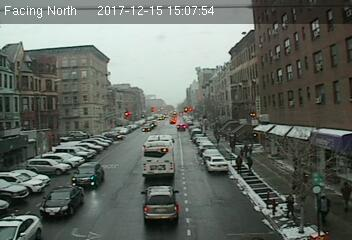bus: (142, 135, 176, 179)
car: (37, 186, 84, 220), (140, 185, 182, 223), (1, 213, 44, 240), (71, 162, 105, 188), (205, 156, 227, 172), (176, 124, 186, 131)
pedestrian: (319, 193, 330, 227), (285, 192, 297, 219), (245, 152, 256, 174), (234, 152, 244, 175)
